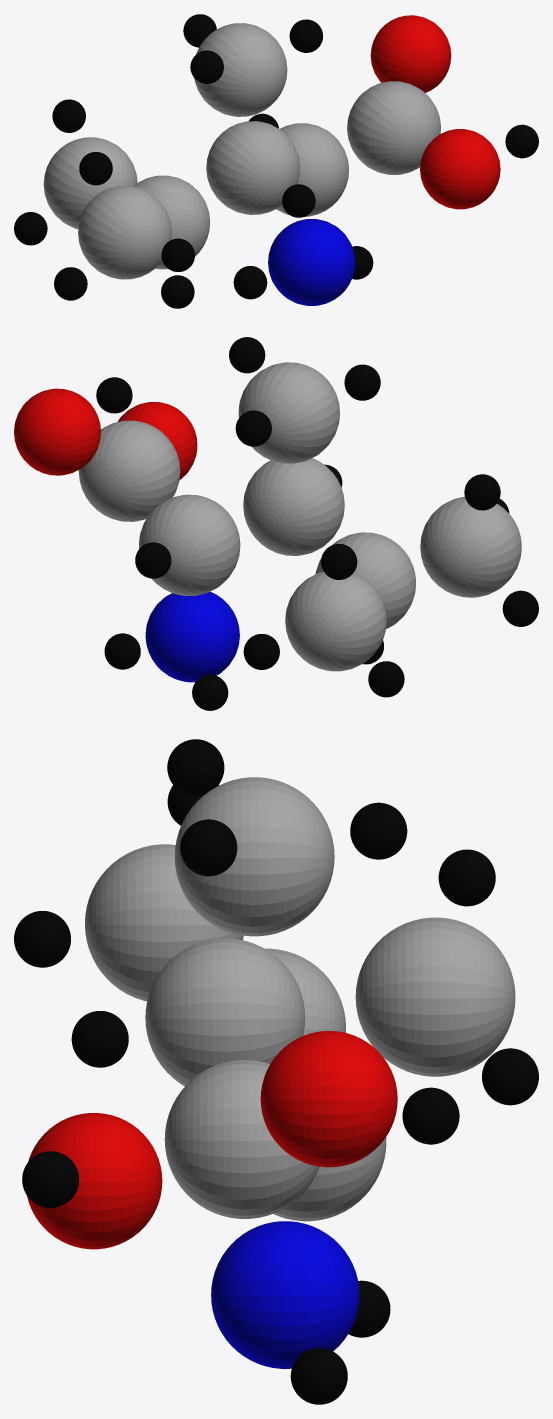
The model's file is Leucine.glb.
3 views of the same model, one above another, from view 1: azimuth 30°, elevation 25°; view 2: azimuth 150°, elevation 25°; view 3: azimuth 270°, elevation 25° (orthographic). The views are drawn at different scales.
Parts seen in each view (by area): view 1: world; view 2: world; view 3: world.
Part boxes in pixels (x1,y1,x2,y2): world: (14,14,538,308); world: (14,337,538,710); world: (14,739,538,1404).
Size of the model in its own units: 7.61 by 5.04 by 4.6.
